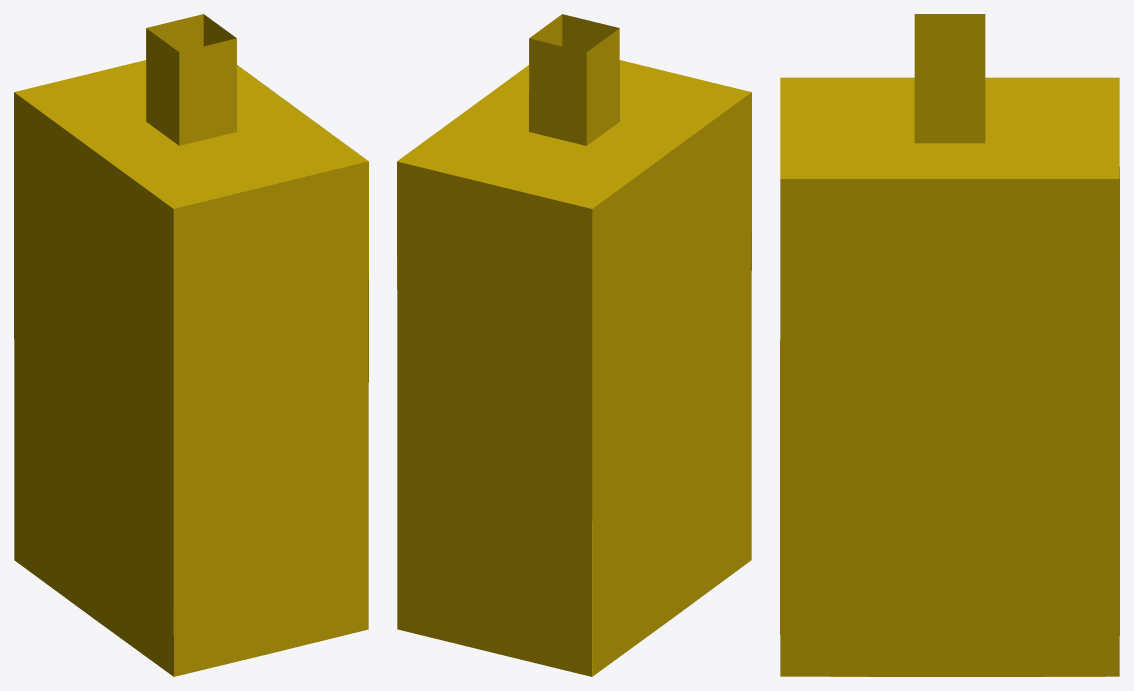
Rendered from original_6.obj.
3 views of the same model, side by side, from view 1: azimuth 30°, elevation 25°; view 2: azimuth 150°, elevation 25°; view 3: azimuth 270°, elevation 25° (orthographic). The views are drawn at different scales.
Parts seen in each view (by area): view 1: #ID55; view 2: #ID55; view 3: #ID55.
Boxes of the visible parts, box(x1,y1,x2,y2) form: #ID55: box(14, 14, 368, 676); #ID55: box(397, 14, 751, 676); #ID55: box(780, 14, 1119, 676).
Size of the model in its own units: 0.4111 by 1.13 by 0.5814.
